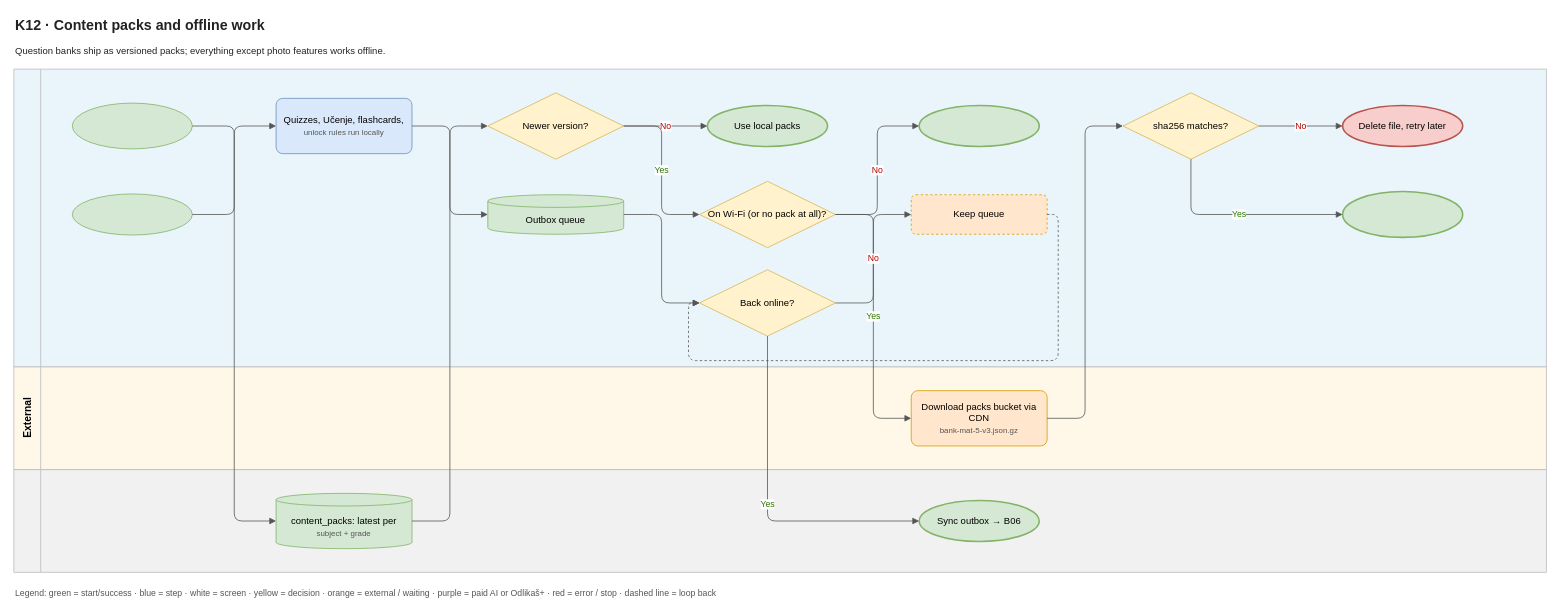
This 1560x614 diagram has some shape labels left out. The shapes that lost their labels are listed below. From the top down, each one's box as (x1, y1, x2, y2) in pixels, then its label:
(71, 102, 192, 149): App start / Wi-Fi connects
(918, 104, 1040, 147): Retry on Wi-Fi
(71, 193, 192, 235): Kid works offline
(13, 68, 1546, 367): Kid app
(1341, 190, 1463, 238): Swap pack; old one kept until done
(13, 469, 1546, 572): Server
